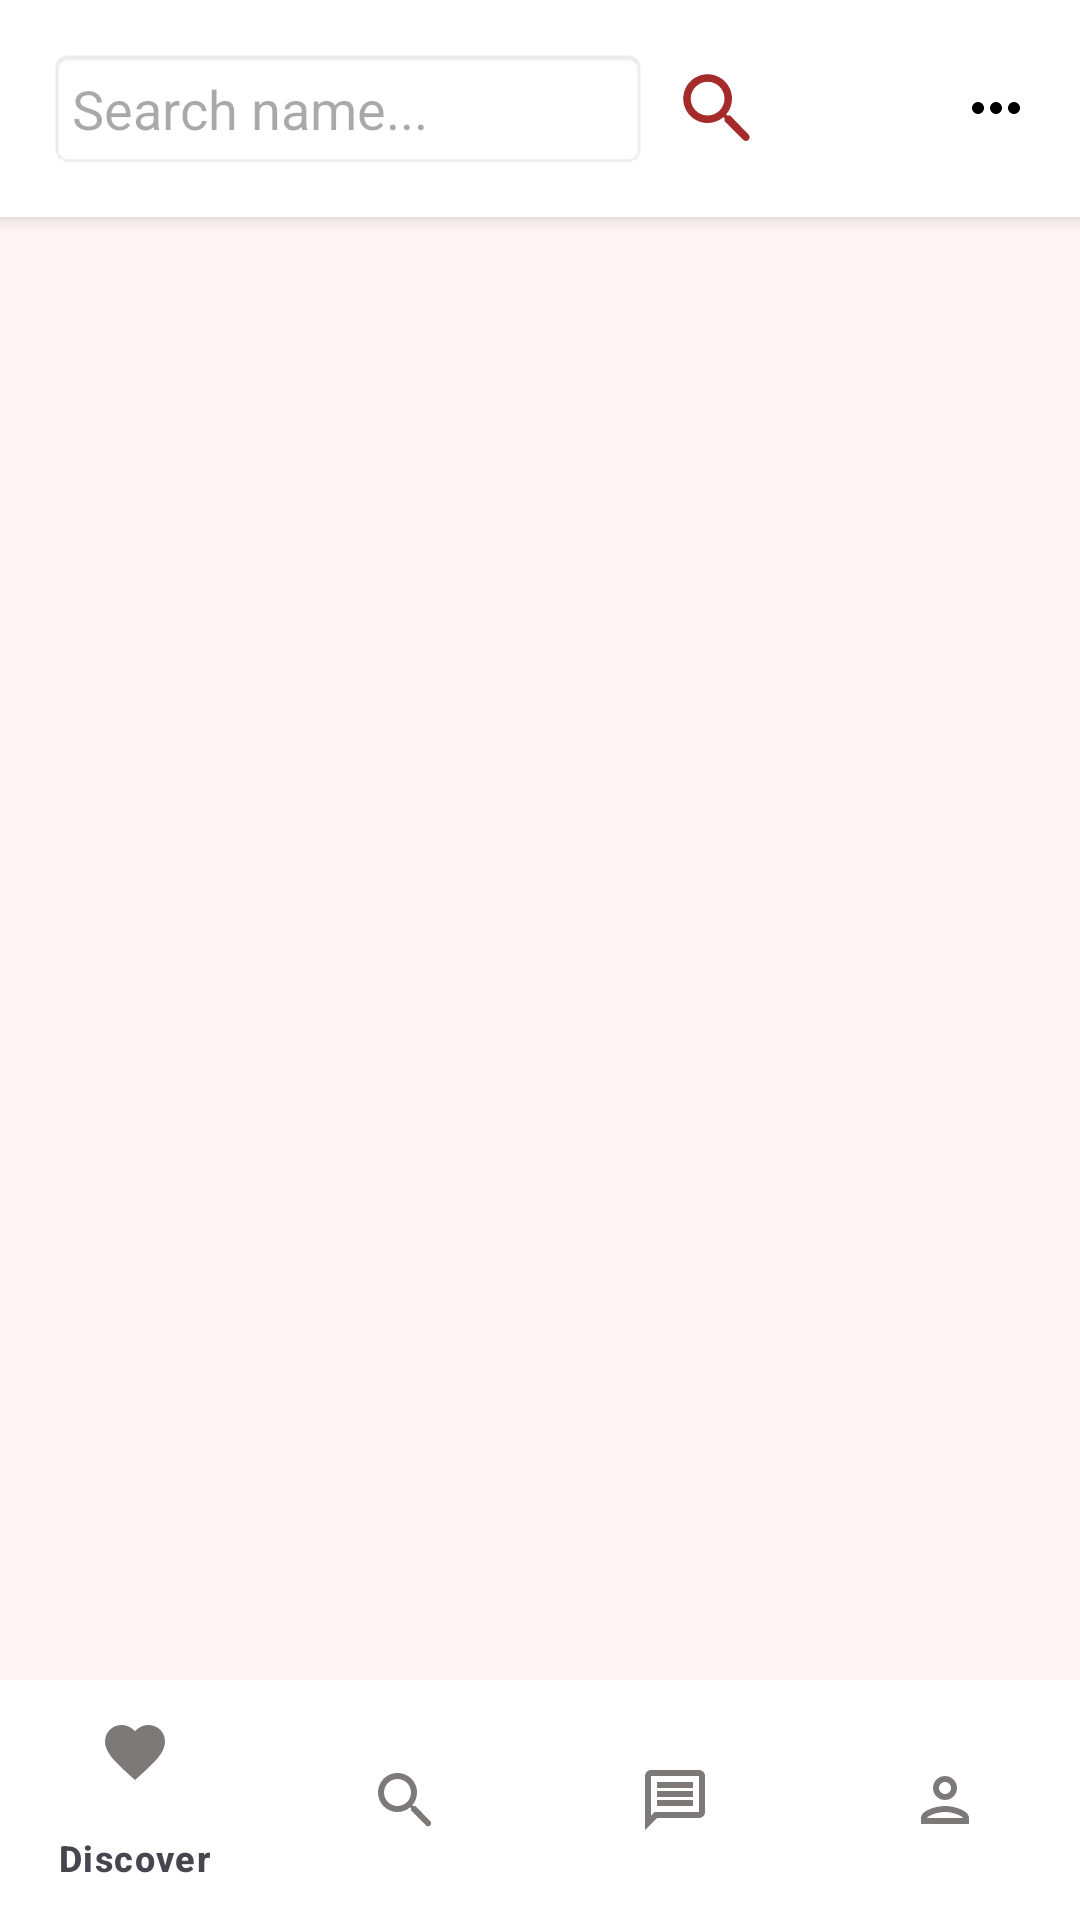

Screen size 1080x1920. Icon name, then its box in pixels as rect(x1, y1, x2, y2):
more dots: rect(972, 102, 1020, 114)
